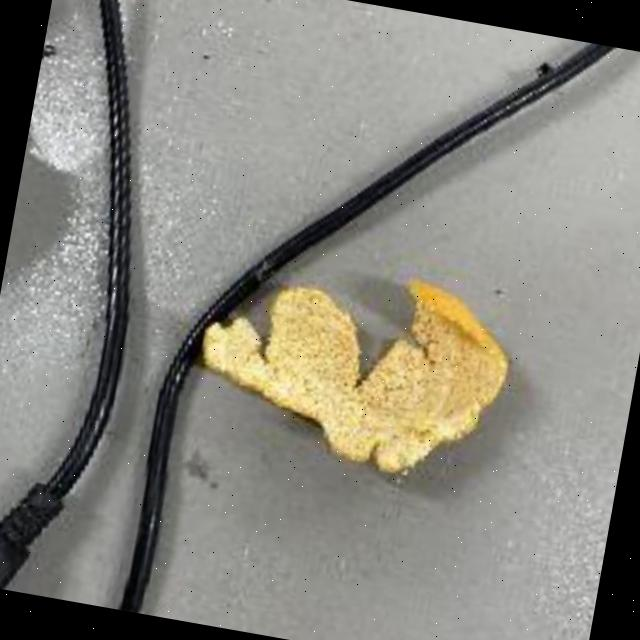orange-peel: (182, 238, 523, 494)
